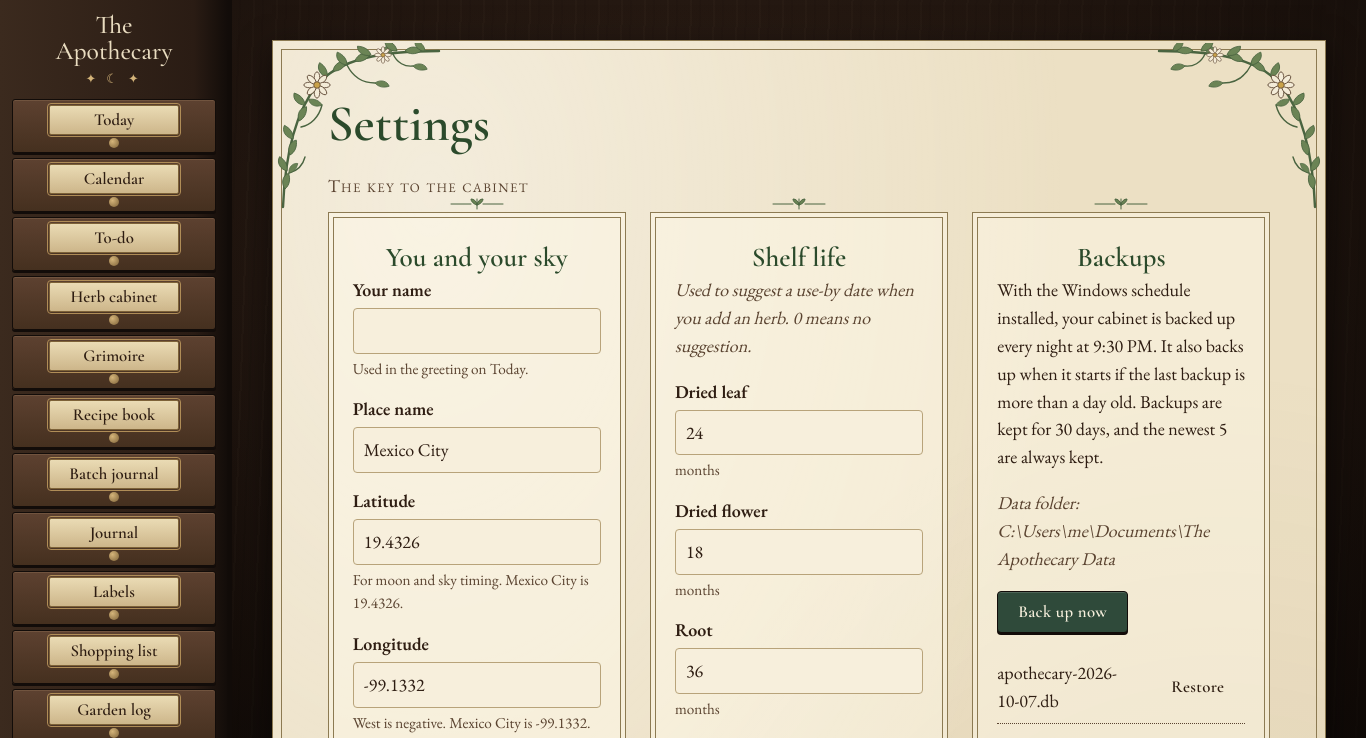
shows a shelf life error next to its field
This screenshot has width=1366, height=738.
Replace the text in the number field labelled "Root" with "999" at [799, 671], box x1=675 y1=648 x2=923 y2=694
(page scrolled)
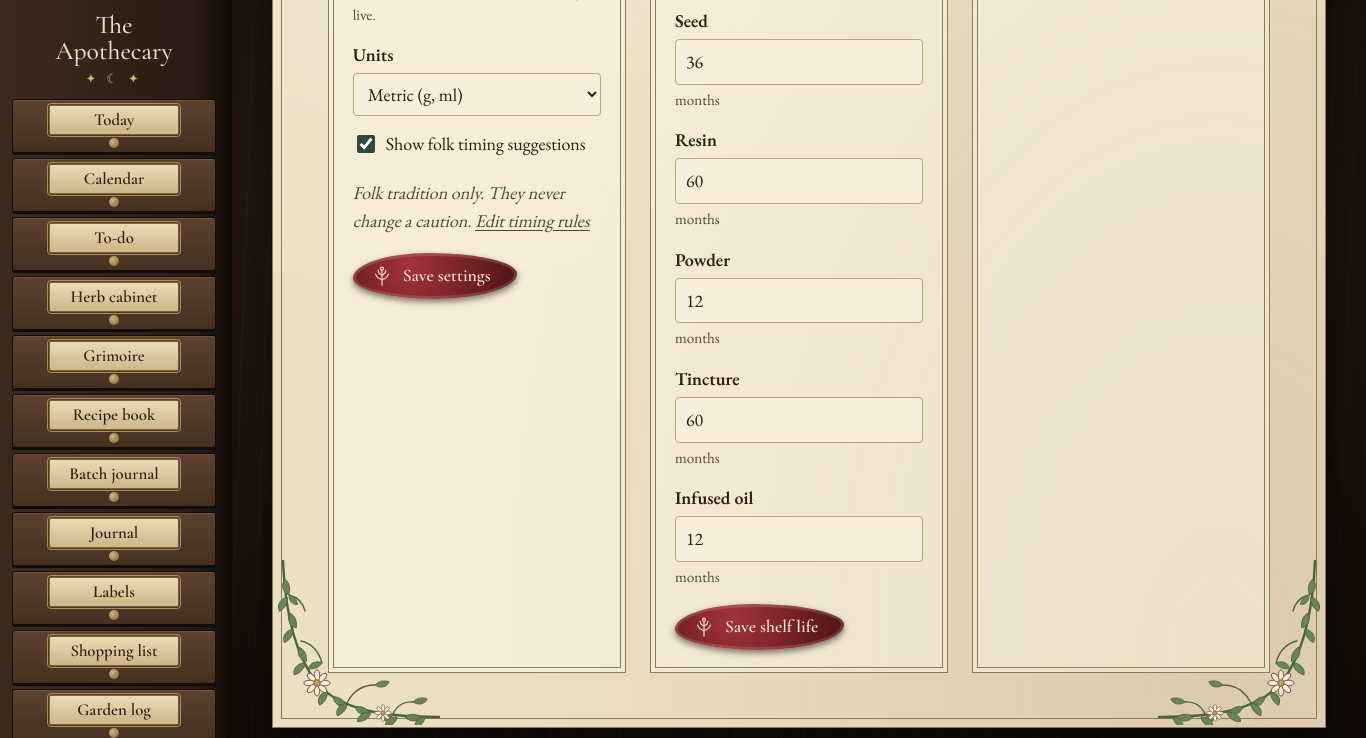
Click the button "Save shelf life".
click(760, 627)  # box x1=675 y1=604 x2=844 y2=650
(page scrolled)
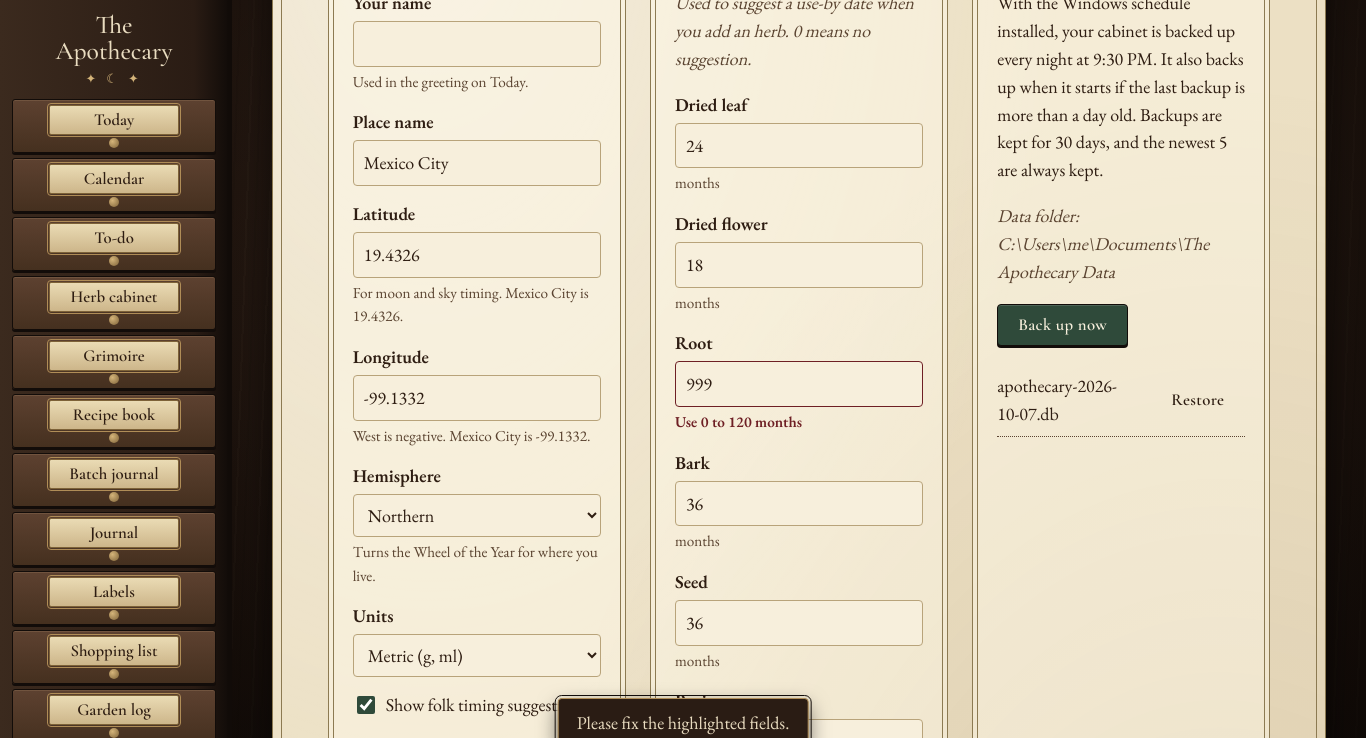
Check: the text "Use 0 to 120 months" is shown, box x1=675 y1=412 x2=802 y2=432
